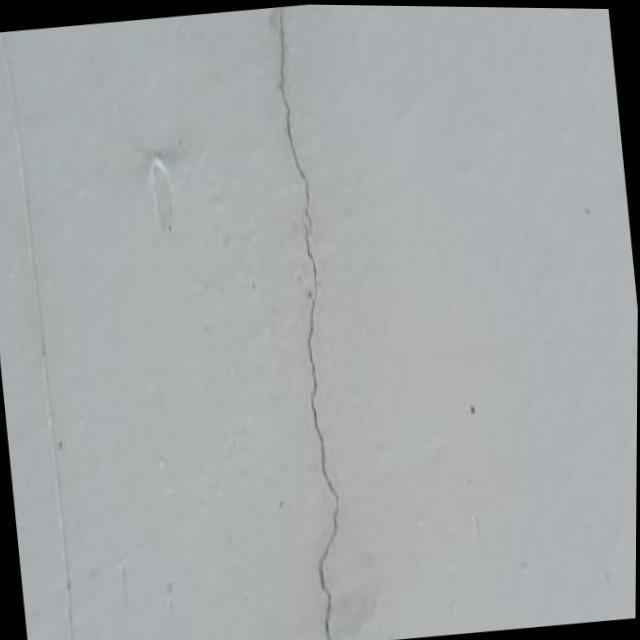Crack: (256, 15, 350, 639)
